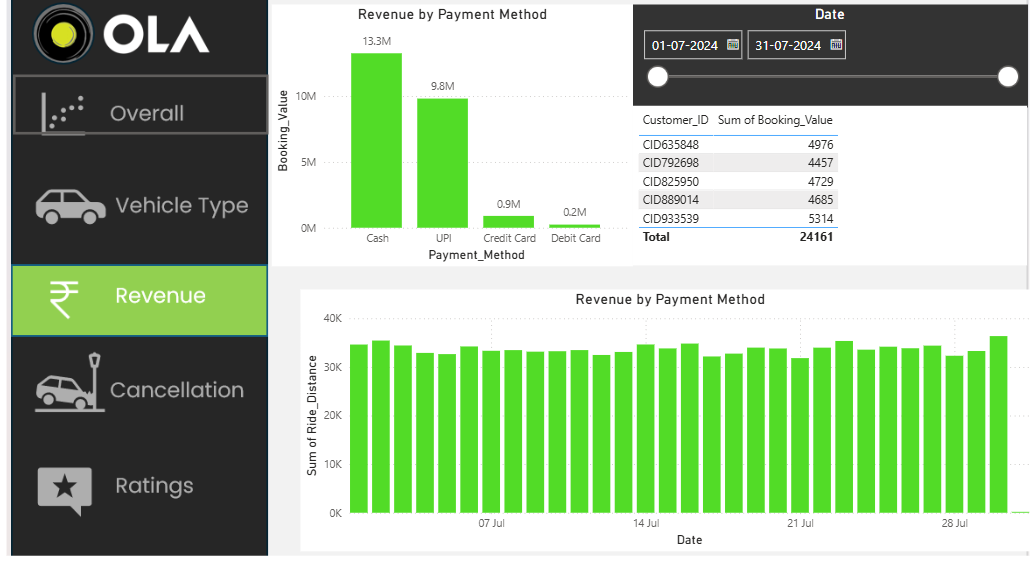

This screenshot's page, from the dashboard's own definition file:
{"tool":"powerbi","page":{"name":"Revenue","canvas":[1280,720],"ordinal":2},"visuals":[{"type":"actionButton","box":[61.7,211.3,295,104.3],"z":0},{"type":"actionButton","box":[54.9,430.9,295,104.3],"z":1000},{"type":"actionButton","box":[60.4,558.5,295,104.3],"z":2000},{"type":"actionButton","box":[63.1,216.8,295,100.2],"z":3000},{"type":"actionButton","box":[63.1,129,292.3,68.6],"z":4000},{"type":"columnChart","title":"Revenue by Payment Method","fields":{"Y":["Sum(July (2).Booking_Value)"],"Category":["July (2).Payment_Method"]},"box":[358.1,48,413,299.1],"z":5000},{"type":"columnChart","title":"Revenue by Payment Method","fields":{"Y":["Sum(July (2).Ride_Distance)"],"Category":["July (2).Date"]},"box":[391.1,374.6,845.3,299.1],"z":6000},{"type":"slicer","title":"Date","fields":{"Values":["July (2).Date"]},"box":[771.2,48,450.1,116.6],"z":7000},{"type":"tableEx","fields":{"Values":["July (2).Customer_ID","Sum(July (2).Booking_Value)"]},"box":[771,165,450,182],"z":8000}]}

Visuals, with their boxes in screenshot pixels (x1, y1, x2, y2), scaled from the page's 1280x720 canvas onto the 1033x574 screenshot:
actionButton: bbox=(50, 168, 288, 252)
actionButton: bbox=(44, 344, 282, 427)
actionButton: bbox=(49, 445, 287, 528)
actionButton: bbox=(51, 173, 289, 253)
actionButton: bbox=(51, 103, 287, 158)
"Revenue by Payment Method" columnChart: bbox=(289, 38, 622, 277)
"Revenue by Payment Method" columnChart: bbox=(316, 299, 998, 537)
"Date" slicer: bbox=(622, 38, 986, 131)
tableEx - July (2).Customer_ID x Sum(July (2).Booking_Value): bbox=(622, 132, 985, 277)
